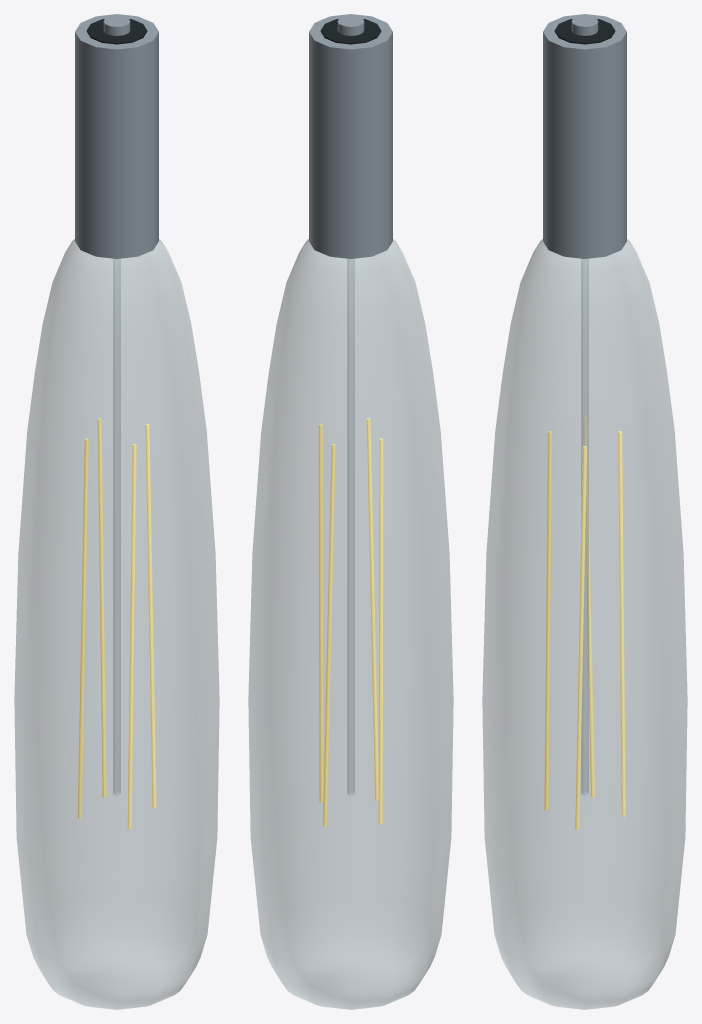
Rendered from source.glb.
3 renders of one model, left to right at view 1: azimuth 30°, elevation 25°; view 2: azimuth 150°, elevation 25°; view 3: azimuth 270°, elevation 25°, orthographic.
Parts seen in each view (by area): view 1: 光学透明件, 机加工金属, Emitters, 密封及绝缘件; view 2: 光学透明件, 机加工金属, Emitters, 密封及绝缘件; view 3: 光学透明件, 机加工金属, Emitters, 密封及绝缘件.
Boxes of the visible parts, bbox=[...] form: 光学透明件: bbox=[14, 239, 219, 1009]; 机加工金属: bbox=[75, 14, 158, 258]; Emitters: bbox=[77, 418, 156, 829]; 密封及绝缘件: bbox=[86, 19, 147, 44]; 光学透明件: bbox=[248, 239, 453, 1009]; 机加工金属: bbox=[309, 14, 392, 258]; Emitters: bbox=[318, 418, 383, 825]; 密封及绝缘件: bbox=[320, 19, 381, 44]; 光学透明件: bbox=[482, 239, 687, 1009]; 机加工金属: bbox=[543, 14, 626, 258]; Emitters: bbox=[544, 416, 625, 829]; 密封及绝缘件: bbox=[554, 19, 615, 44].
Size of the model in its own units: 0.0352 by 0.1826 by 0.0352.
